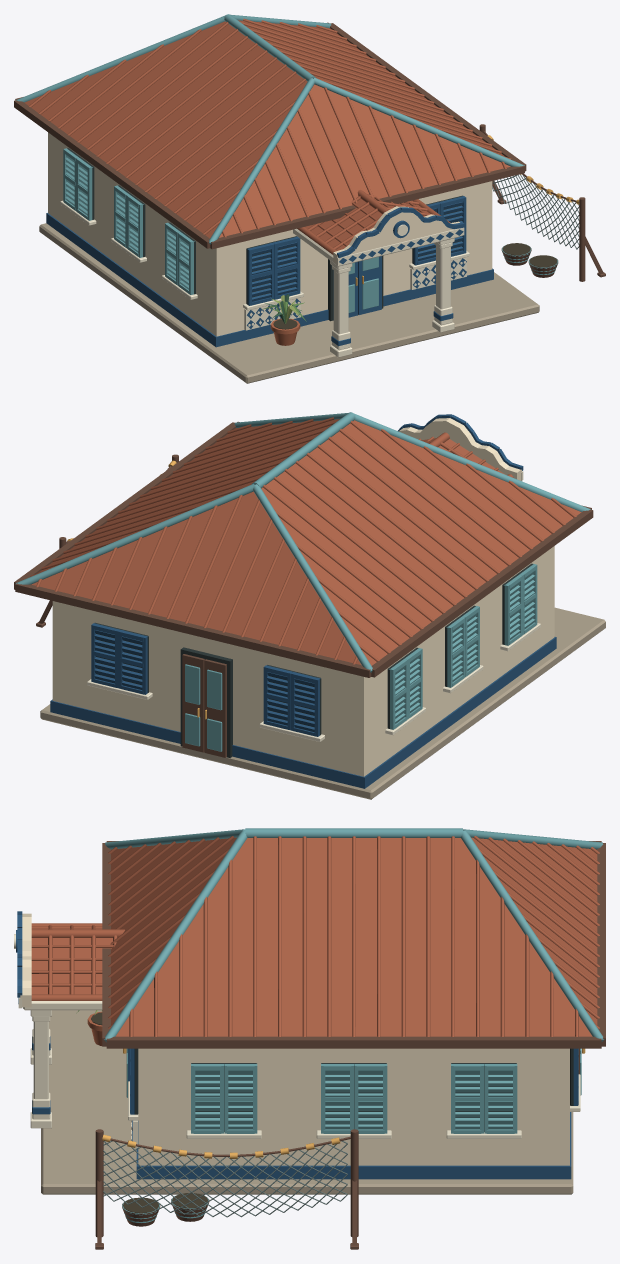
The picture shows the model from 3 angles, top to bottom: view 1: azimuth 30°, elevation 25°; view 2: azimuth 150°, elevation 25°; view 3: azimuth 270°, elevation 25°; orthographic projection. The views are drawn at different scales.
Visible parts, largest first — view 1: Hipped roof, Fisher cottage, Louvred shutters, Sea blue entry porch, Net drying trestle, Pitched roof, Entrance joinery, Blue and white glazed dado, Encaustic tile frieze, Potted pandan; view 2: Hipped roof, Fisher cottage, Louvred shutters, Entrance joinery, Sea blue entry porch, Pitched roof; view 3: Hipped roof, Fisher cottage, Louvred shutters, Net drying trestle, Pitched roof, Sea blue entry porch.
Boxes of the visible parts, box(x1,y1,x2,y2) form: Hipped roof: box(14, 14, 526, 249); Fisher cottage: box(39, 132, 539, 383); Louvred shutters: box(60, 148, 469, 310); Sea blue entry porch: box(293, 206, 464, 357); Net drying trestle: box(479, 124, 605, 281); Pitched roof: box(297, 190, 450, 254); Entrance joinery: box(328, 256, 383, 321); Blue and white glazed dado: box(244, 257, 466, 330); Encaustic tile frieze: box(336, 227, 464, 265); Potted pandan: box(261, 294, 306, 345); Hipped roof: box(14, 412, 593, 677); Fisher cottage: box(40, 546, 605, 799); Louvred shutters: box(87, 563, 540, 741); Entrance joinery: box(180, 647, 232, 757); Sea blue entry porch: box(398, 414, 523, 480); Pitched roof: box(418, 432, 513, 477); Hipped roof: box(102, 828, 605, 1048); Fisher cottage: box(41, 1010, 573, 1194); Louvred shutters: box(128, 1048, 580, 1138); Net drying trestle: box(95, 1129, 358, 1249); Pitched roof: box(31, 923, 124, 1000); Sea blue entry porch: box(14, 911, 102, 1128).
Bounding box in the file's own units: 10.81 × 5.61 × 10.98.
